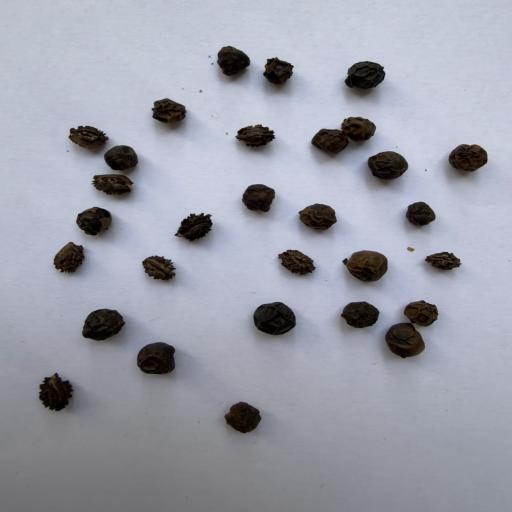Black_pepper: (247, 299, 304, 339), (73, 305, 127, 342), (222, 400, 267, 438), (342, 249, 393, 282), (362, 149, 412, 182), (136, 342, 180, 378), (449, 140, 492, 176), (384, 324, 428, 358), (339, 297, 380, 332), (344, 58, 387, 90), (71, 206, 114, 238), (99, 144, 147, 172), (214, 44, 254, 77), (296, 201, 340, 231), (146, 97, 193, 125), (398, 297, 443, 325), (310, 125, 348, 157), (402, 200, 439, 230), (340, 113, 381, 140), (244, 182, 276, 214), (262, 57, 293, 85)
papaya_seed: (28, 376, 80, 418), (419, 247, 474, 282), (132, 251, 184, 288), (173, 211, 219, 247), (276, 243, 322, 279), (52, 242, 96, 278), (236, 120, 276, 154), (66, 116, 106, 149), (95, 174, 134, 200)
